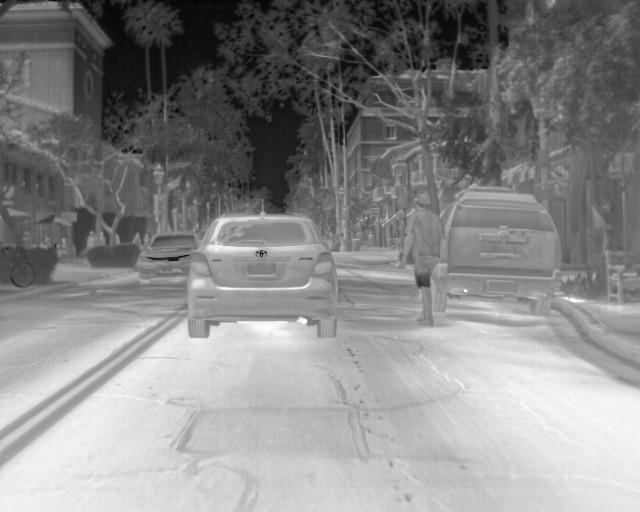bicycle: (185, 206, 338, 338), (428, 184, 563, 314), (133, 230, 201, 282)
empty: (395, 192, 441, 327), (55, 236, 68, 257), (85, 229, 96, 249), (130, 231, 142, 249), (96, 231, 108, 246), (39, 235, 52, 248)
